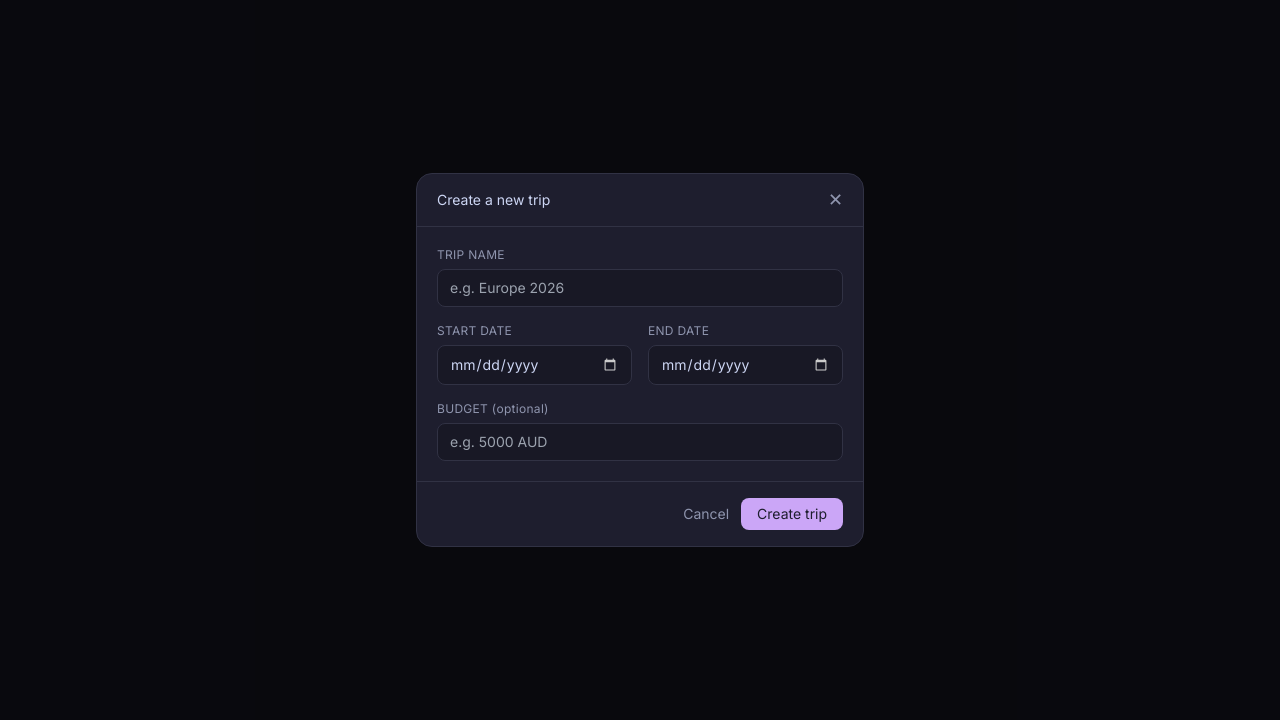
it: CreateTripModal › shows an error message if creation fails
In the field labelled "Trip name": (640, 288) [437, 269, 843, 307], type "x"
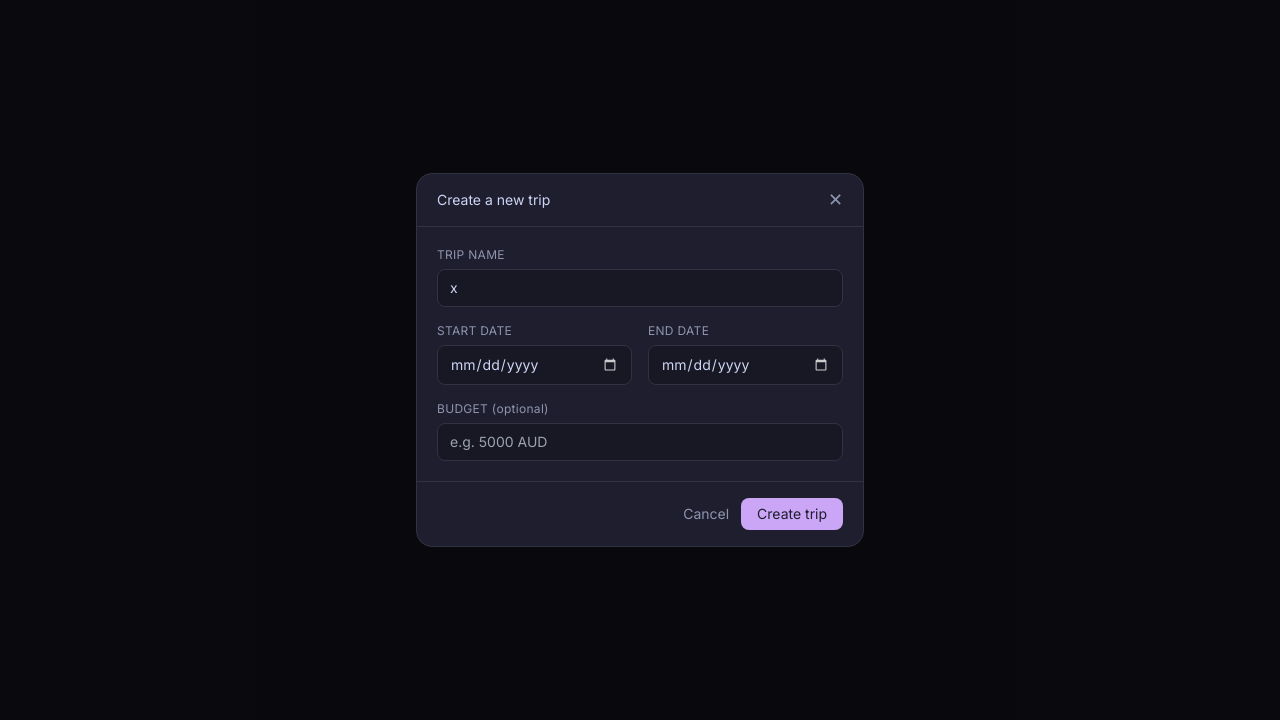
Click the button "Create trip": (792, 514) [741, 498, 843, 530]
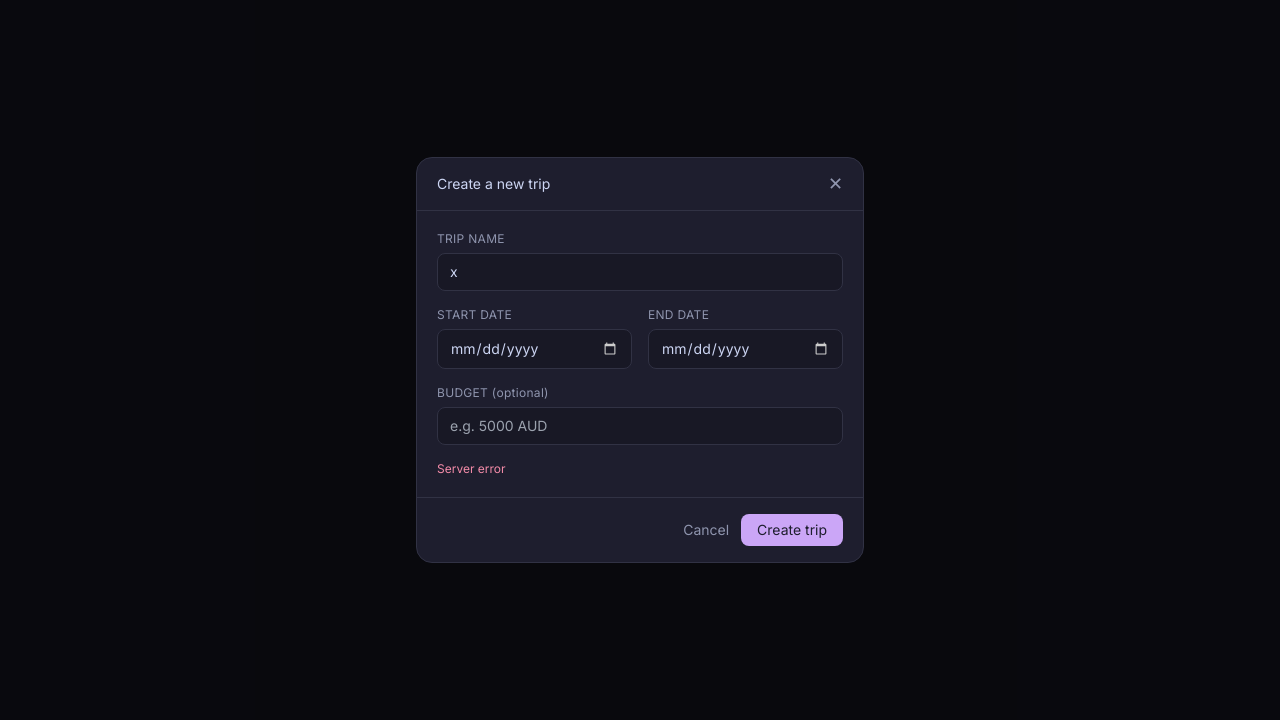
expect the text "Server error" is shown: met, box [437, 461, 506, 476]
